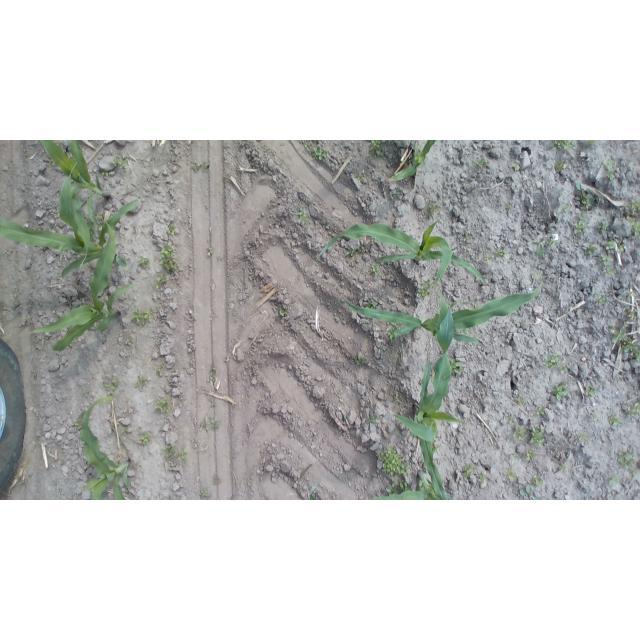Maize: (1, 161, 146, 280), (27, 220, 142, 359), (345, 284, 544, 350), (313, 218, 485, 290), (392, 350, 465, 500), (77, 392, 135, 500), (37, 142, 115, 211), (387, 140, 442, 184)
Weeds: (378, 448, 410, 477), (160, 243, 180, 273), (600, 253, 618, 281), (575, 182, 592, 208), (549, 381, 571, 400), (166, 446, 188, 465), (134, 307, 154, 327), (602, 161, 621, 182), (384, 479, 412, 493), (573, 214, 589, 238), (104, 378, 121, 399), (617, 453, 636, 471), (314, 145, 331, 164), (485, 247, 508, 261), (540, 352, 560, 368), (134, 375, 151, 393), (611, 324, 626, 344), (531, 427, 546, 447), (200, 419, 220, 434), (188, 159, 208, 174), (551, 141, 578, 152), (345, 246, 372, 257), (155, 397, 173, 413), (370, 141, 386, 159), (625, 340, 640, 359), (520, 487, 541, 500), (533, 244, 548, 262), (417, 280, 432, 298), (385, 391, 403, 406), (473, 157, 492, 171), (448, 360, 465, 375), (112, 155, 129, 170), (370, 263, 387, 278), (385, 325, 403, 339), (582, 385, 598, 400), (513, 424, 528, 440), (628, 219, 640, 238), (554, 157, 568, 173), (136, 256, 153, 269), (208, 366, 220, 384), (626, 199, 640, 214), (597, 219, 612, 233), (517, 395, 532, 408), (605, 241, 623, 251), (197, 488, 213, 499), (626, 401, 640, 413), (460, 465, 474, 477), (165, 224, 179, 236), (297, 206, 307, 222), (510, 159, 522, 172), (156, 363, 168, 376), (141, 434, 153, 447), (609, 416, 623, 427), (355, 356, 369, 367), (155, 276, 169, 287), (428, 200, 437, 217), (577, 434, 589, 446), (556, 460, 568, 472), (277, 306, 288, 319), (364, 300, 378, 310), (550, 236, 561, 248), (533, 475, 544, 487), (591, 192, 601, 205), (506, 470, 516, 483), (212, 475, 223, 486), (608, 475, 618, 487), (394, 188, 409, 196), (537, 408, 549, 417), (477, 470, 486, 482), (205, 247, 215, 257), (503, 203, 513, 212), (99, 211, 108, 221), (526, 452, 534, 463), (589, 410, 597, 421), (588, 245, 596, 255), (561, 203, 569, 213), (462, 235, 471, 243), (561, 364, 569, 373), (369, 415, 376, 425), (121, 426, 131, 433)
